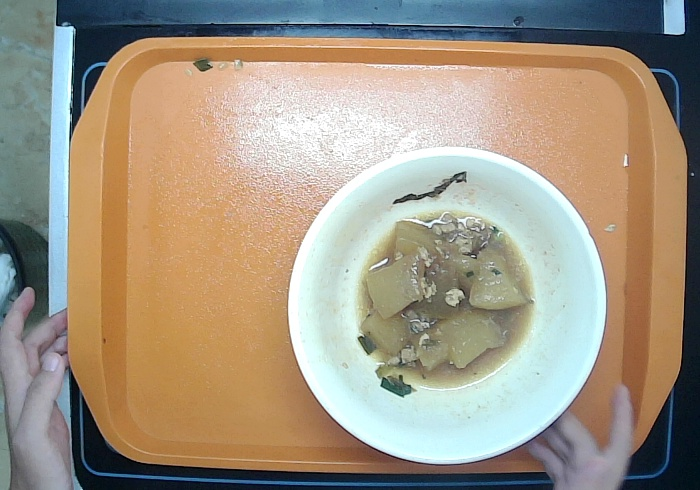ZNLD-Da_Tang_Wan: (286, 142, 607, 468)
